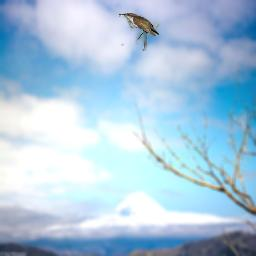Cuckoo: (119, 13, 159, 51)
